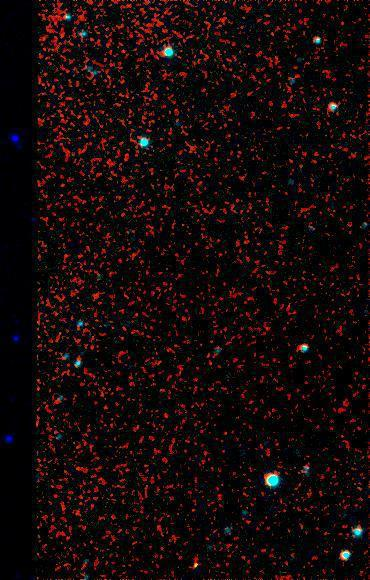star: (181, 549, 211, 579)
